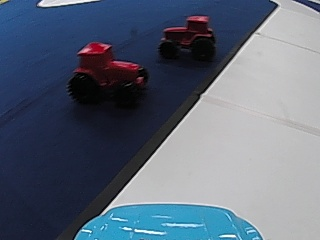tractor: (67, 40, 148, 104), (160, 12, 216, 62)
